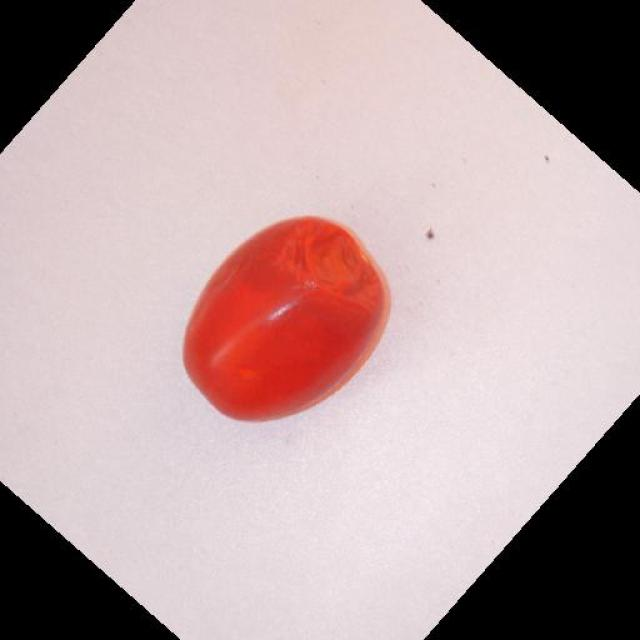Stale_tomato: (189, 189, 387, 434)
